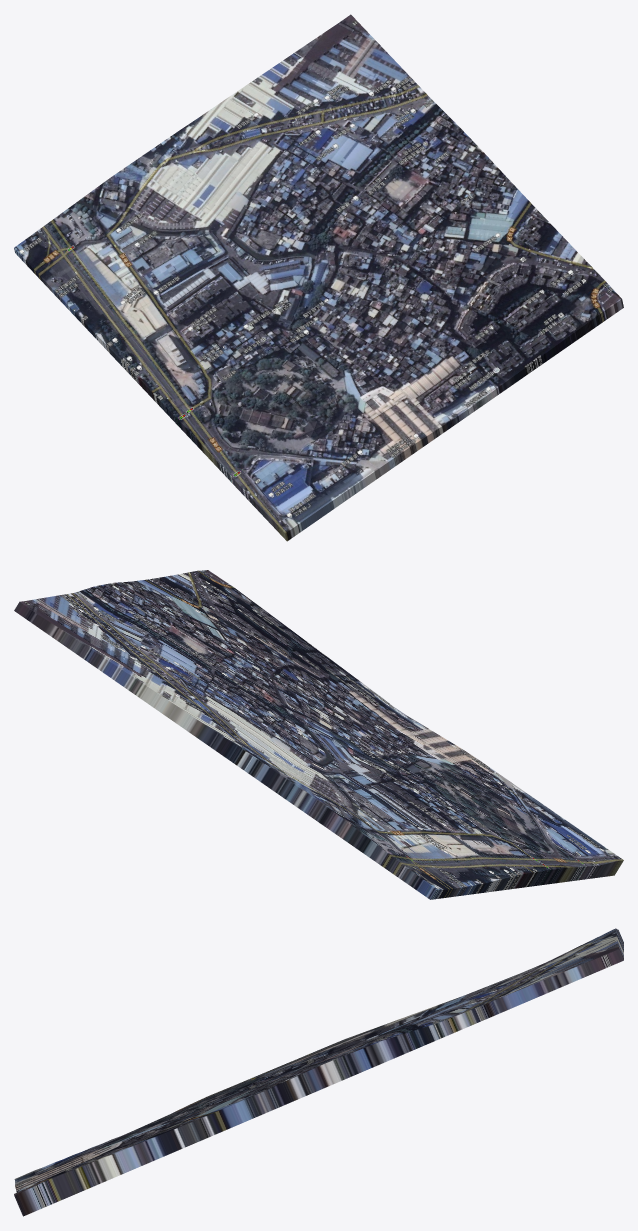
3 views of the same model, one above another, from view 1: azimuth 30°, elevation 25°; view 2: azimuth 150°, elevation 25°; view 3: azimuth 270°, elevation 25° (orthographic). The views are drawn at different scales.
Visible parts, largest first — view 1: 0_17_16; view 2: 0_17_16; view 3: 0_17_16.
Part boxes in pixels (left/top/right/bottom): 0_17_16: left=14, top=14, right=623, bottom=541; 0_17_16: left=14, top=570, right=623, bottom=899; 0_17_16: left=14, top=928, right=623, bottom=1216.
Bounding box in the file's own units: 597 × 437 × 550.
1 material, 1 textured.
